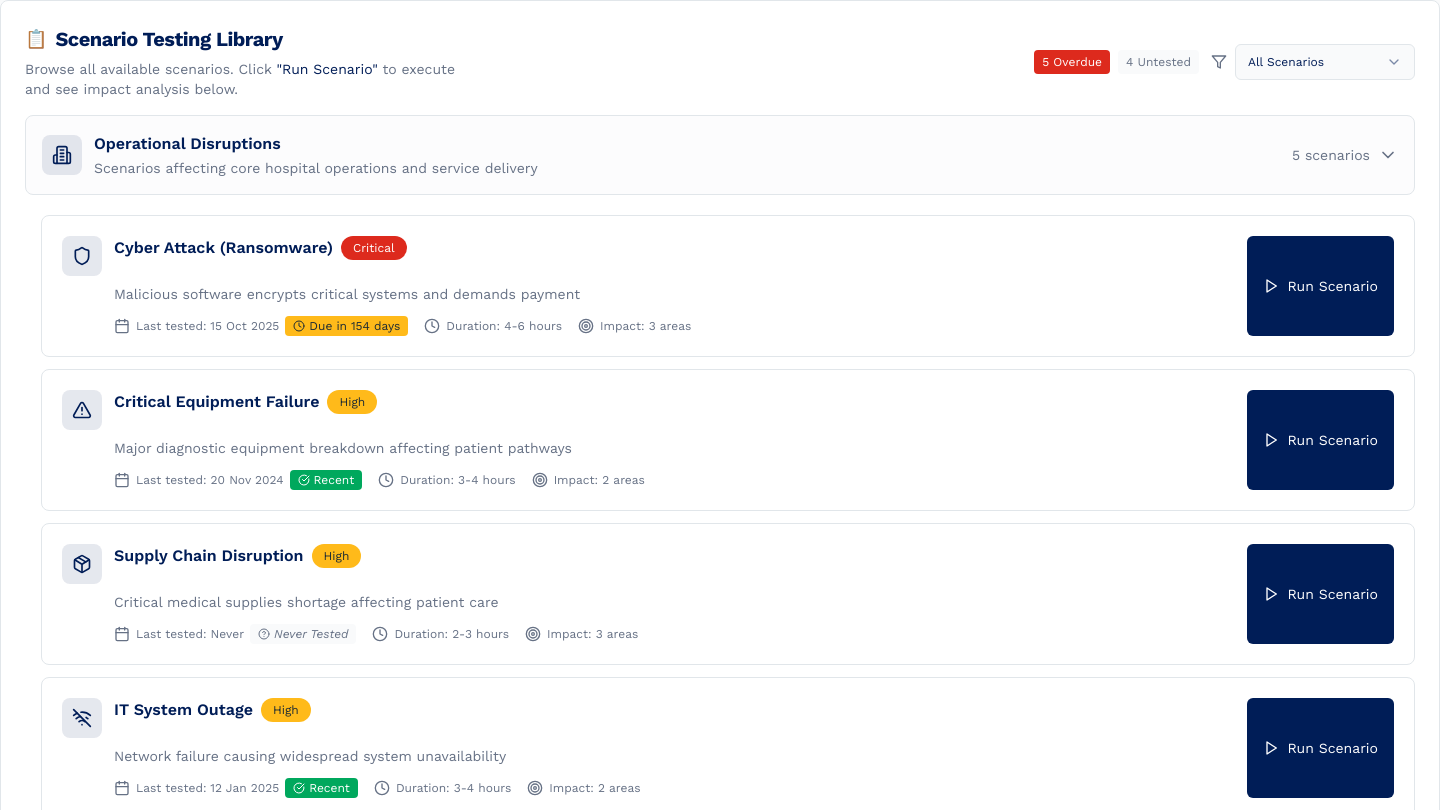
it: Scenario Library ↔ Visualiser Integration › Library to Visualiser Connection › shows loading state on library button during execution
Click the button "Run Scenario" in the row of "4-6 hours": (1321, 286) [1247, 236, 1394, 336]
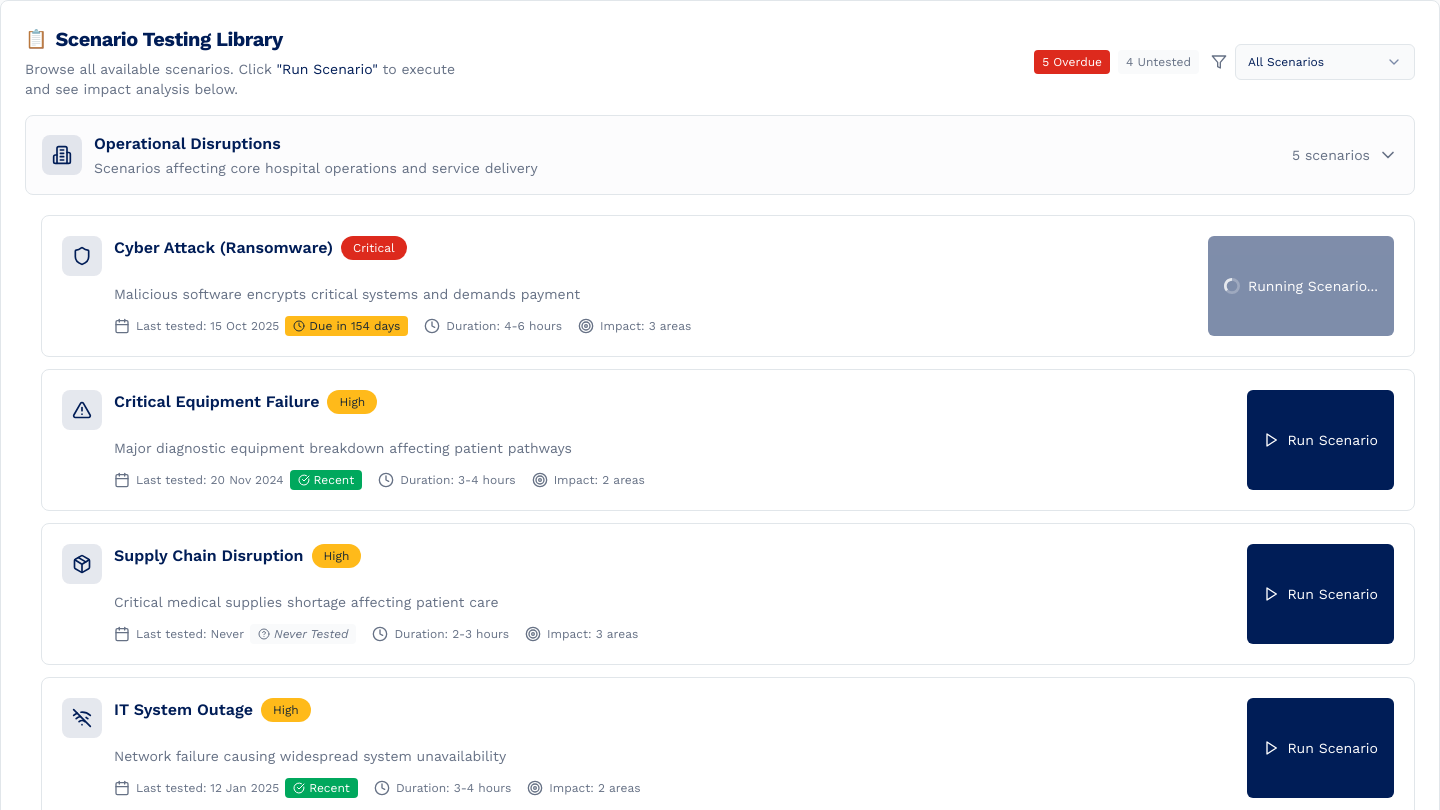
Expected: the text "Running Scenario..." is shown, [1248, 276, 1378, 296]
